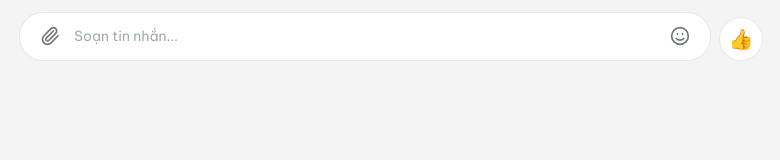
Scenario: MessageComposer Component Tests › calls onSendMessage and clears input when clicking send
Step 1. Type "Tin nhắn gửi đi" into the text box named "Nội dung tin nhắn" → (365, 36), box [66,19,664,54]
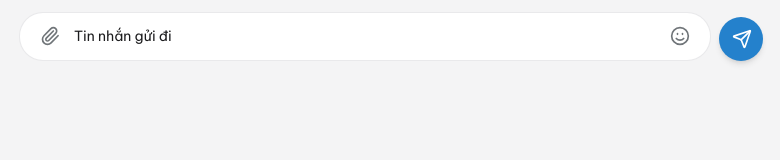
Step 2. Click the button named "Gửi tin nhắn" → (741, 39), box [719,17,763,61]
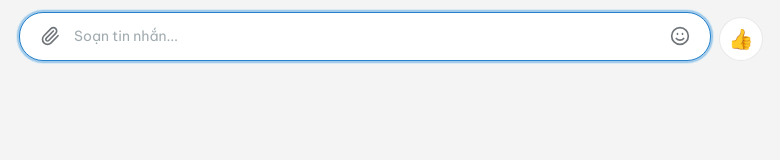
Check: the text box named "Nội dung tin nhắn" is empty, box [66,19,664,54]
